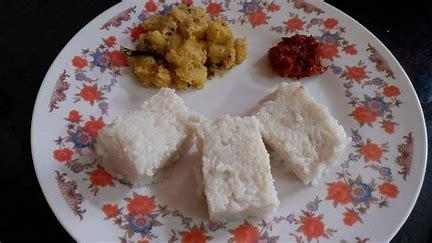Kiribath: (90, 86, 375, 223)
Lunu sambol: (264, 24, 337, 80)
